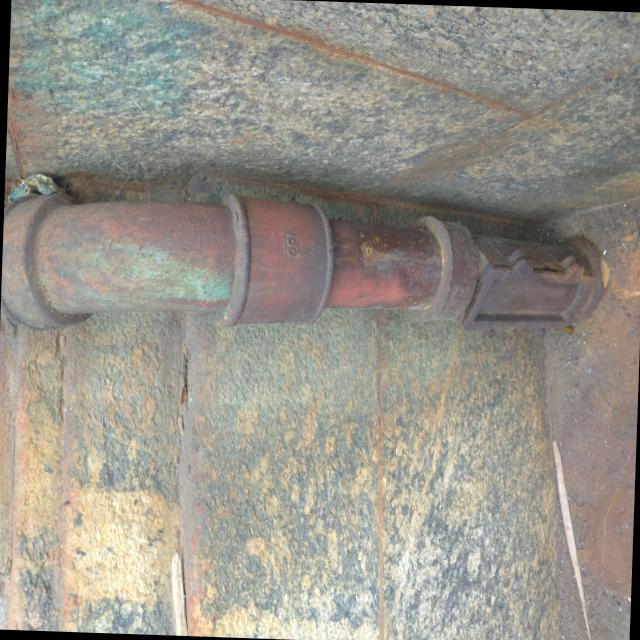gas: (2, 187, 596, 340)
